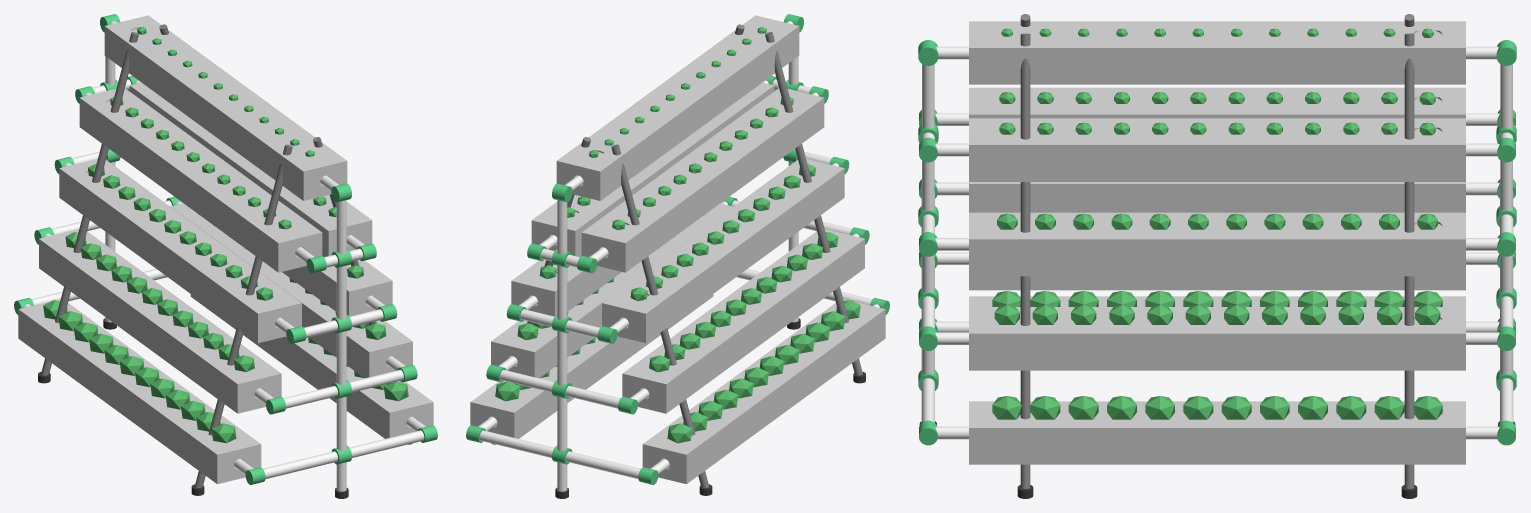
File: EcoCultivo_EstructuraCompleta.fbx
The picture shows the model from 3 angles, left to right: view 1: azimuth 30°, elevation 25°; view 2: azimuth 150°, elevation 25°; view 3: azimuth 270°, elevation 25°; orthographic projection. The views are drawn at different scales.
Parts seen in each view (by area): view 1: Modulo_Hidroponico_LOD_0; view 2: Modulo_Hidroponico_LOD_0; view 3: Modulo_Hidroponico_LOD_0.
Part boxes in pixels (x1,y1,x2,y2): Modulo_Hidroponico_LOD_0: (14, 14, 437, 498); Modulo_Hidroponico_LOD_0: (466, 14, 889, 498); Modulo_Hidroponico_LOD_0: (918, 14, 1516, 498).
Size of what is drawn, in the model's own units: 141 by 199 by 265.
